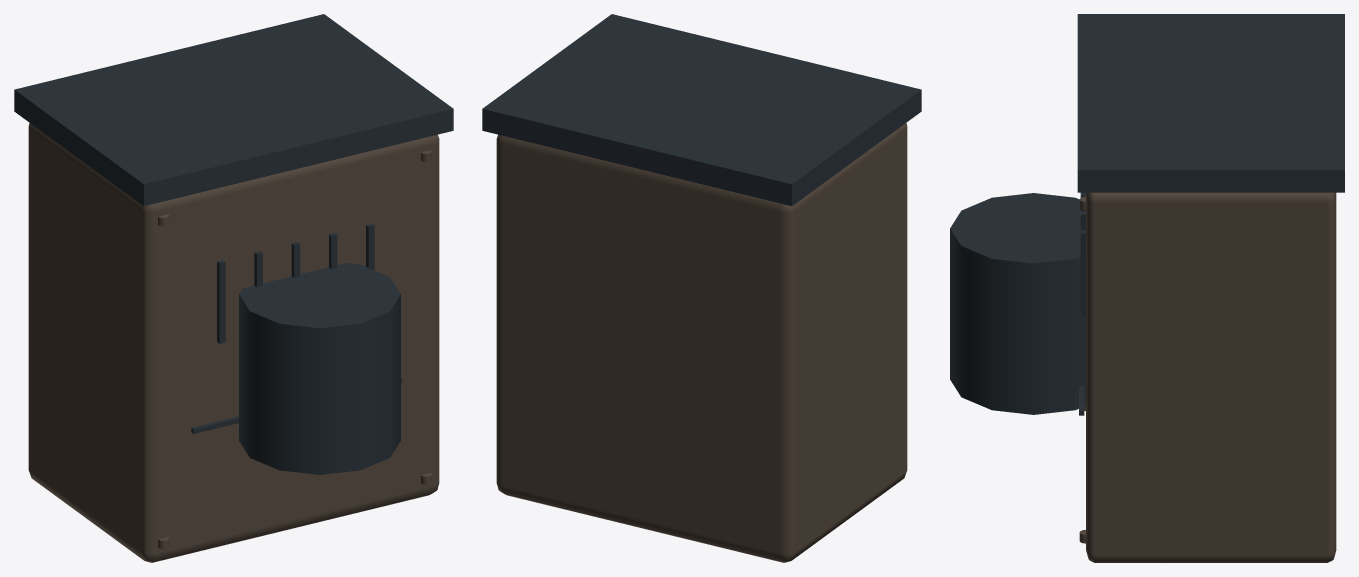
The model's file is generator-3.glb.
The picture shows the model from 3 angles, left to right: view 1: azimuth 30°, elevation 25°; view 2: azimuth 150°, elevation 25°; view 3: azimuth 270°, elevation 25°; orthographic projection. The views are drawn at different scales.
Parts seen in each view (by area): view 1: generator/2/KR-230-3; view 2: generator/2/KR-230-3; view 3: generator/2/KR-230-3.
Part boxes in pixels (box(x1,y1,x2,y2)): generator/2/KR-230-3: box(14, 14, 453, 562); generator/2/KR-230-3: box(482, 14, 921, 562); generator/2/KR-230-3: box(950, 14, 1344, 562).
Bounding box in the file's own units: 1.77 × 2.12 × 1.89.
